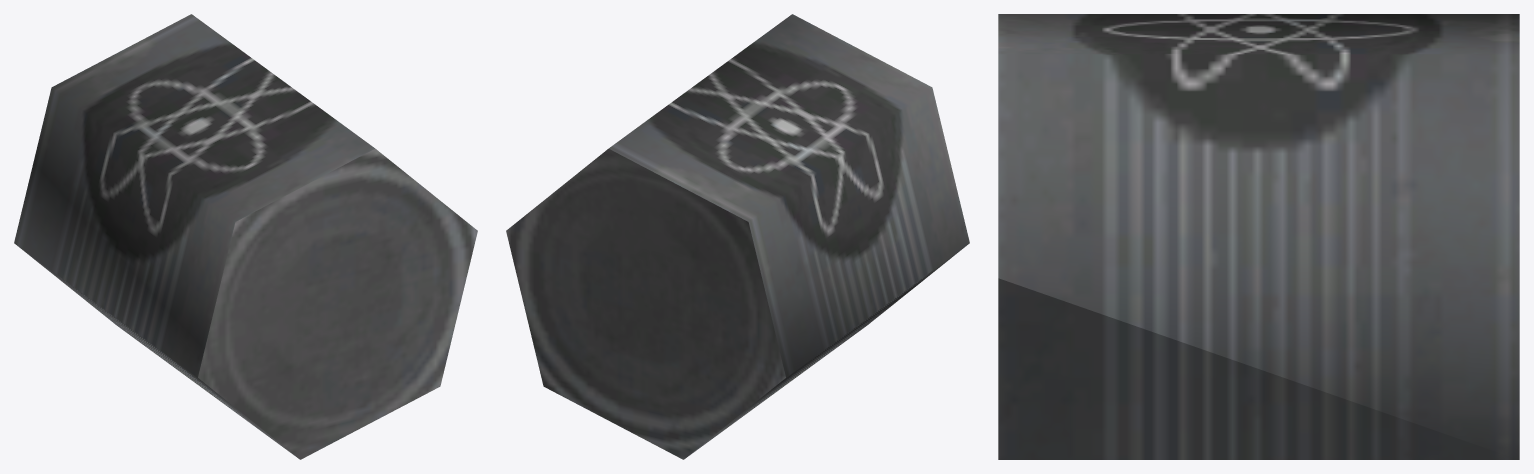
The model's file is nt_2020_cans_single02_LOD1.obj.
3 renders of one model, left to right at view 1: azimuth 30°, elevation 25°; view 2: azimuth 150°, elevation 25°; view 3: azimuth 270°, elevation 25°, orthographic. The views are drawn at different scales.
Parts seen in each view (by area): view 1: mtl_nt_2020_cans_clean; view 2: mtl_nt_2020_cans_clean; view 3: mtl_nt_2020_cans_clean.
Boxes of the visible parts, x1=… form: mtl_nt_2020_cans_clean: x1=14, y1=14, x2=477, y2=459; mtl_nt_2020_cans_clean: x1=506, y1=14, x2=969, y2=459; mtl_nt_2020_cans_clean: x1=998, y1=14, x2=1519, y2=459.
Bounding box in the file's own units: 13.33 × 13.33 × 15.16.
